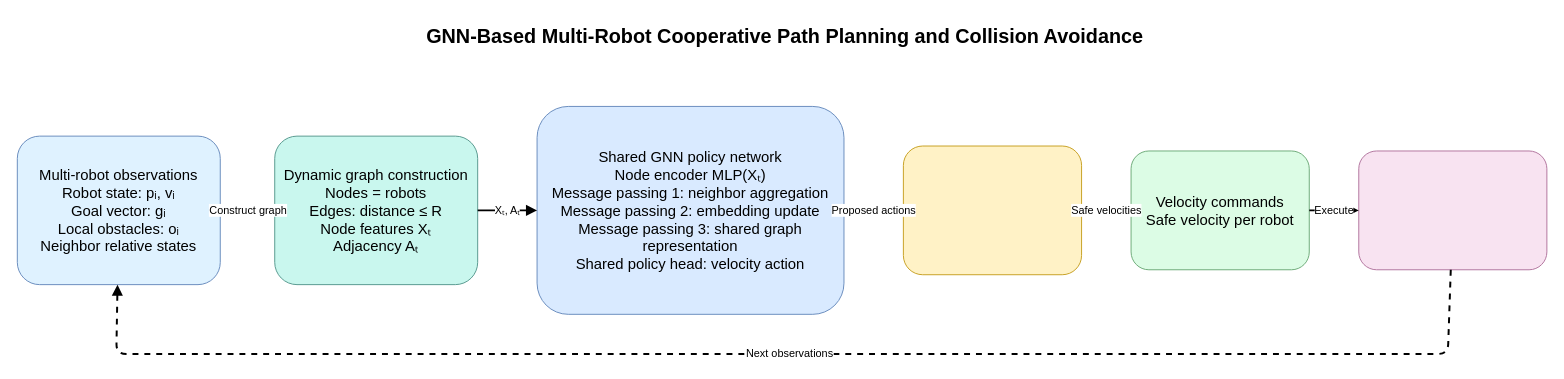
The diagram is 1564 pixels wide and 379 high, and some of its shapes have lost their labels. Here are the shapes that lost their labels. From the top down, the centre of each, then its label:
At [992,210]: "Safety filter Collision check Velocity clipping ORCA-style correction".
At [1452,210]: "Multi-robot environment Physics execution, obstacles, and goals".
